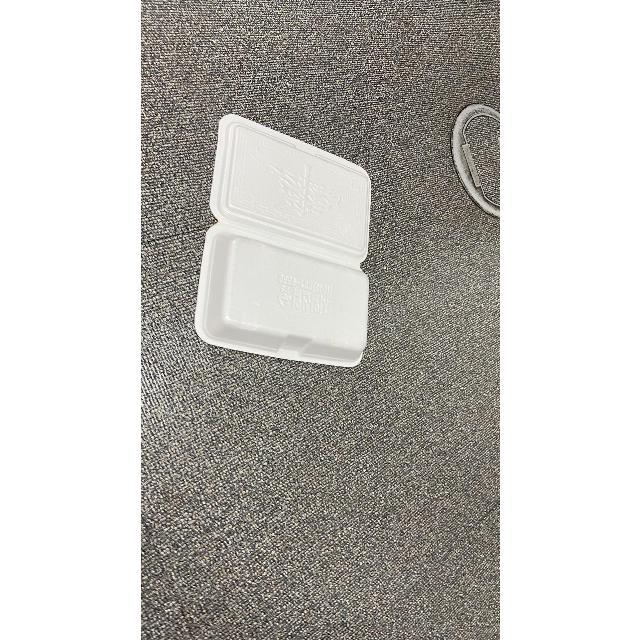Plastico descartable: (195, 120, 370, 368)
